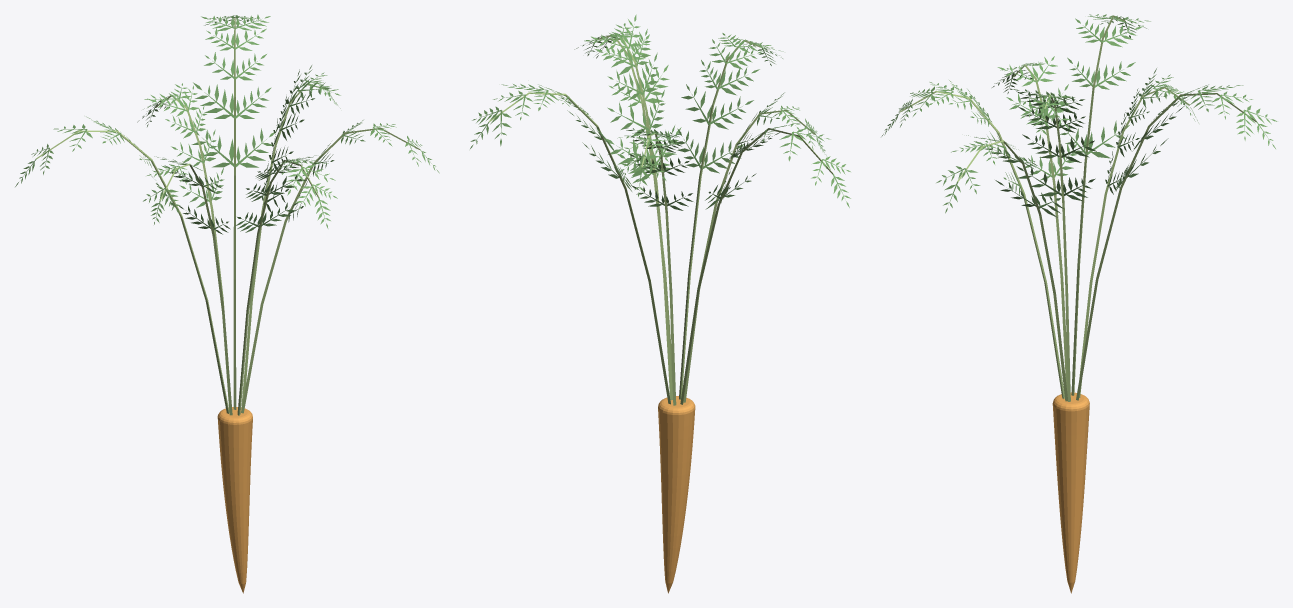
File: carrot_harvest_v10.glb
The picture shows the model from 3 angles, left to right: view 1: azimuth 30°, elevation 25°; view 2: azimuth 150°, elevation 25°; view 3: azimuth 270°, elevation 25°; orthographic projection. The views are drawn at different scales.
Parts seen in each view (by area): view 1: leaves, petioles, root; view 2: leaves, petioles, root; view 3: leaves, petioles, root.
Part boxes in pixels (left/top/right/bottom): leaves: left=15, top=14, right=439, bottom=234; petioles: left=36, top=17, right=420, bottom=415; root: left=217, top=407, right=252, bottom=593; leaves: left=470, top=14, right=850, bottom=210; petioles: left=488, top=34, right=833, bottom=405; root: left=658, top=396, right=695, bottom=593; leaves: left=881, top=14, right=1277, bottom=217; petioles: left=899, top=15, right=1256, bottom=401; root: left=1052, top=392, right=1089, bottom=593.
Size of the model in its own units: 0.3436 by 0.5 by 0.3367.
